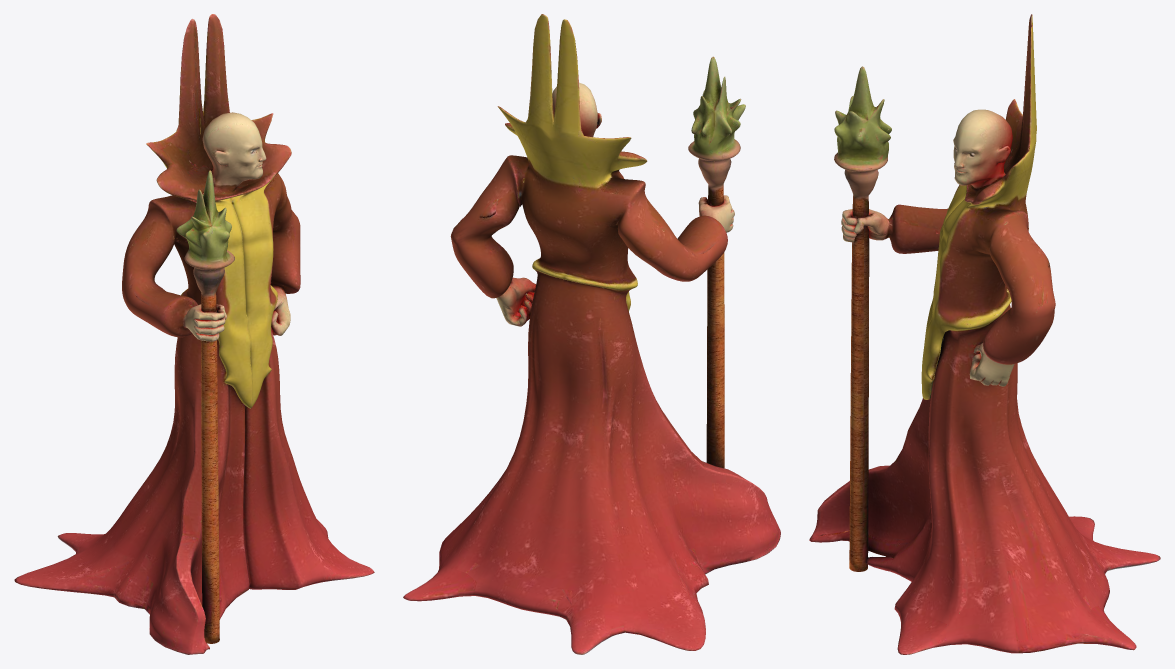
The model's file is MZ4250 - Azbarajos.glb.
The picture shows the model from 3 angles, left to right: view 1: azimuth 30°, elevation 25°; view 2: azimuth 150°, elevation 25°; view 3: azimuth 270°, elevation 25°; orthographic projection. The views are drawn at different scales.
Parts seen in each view (by area): view 1: MZ4250 - Azbarajos; view 2: MZ4250 - Azbarajos; view 3: MZ4250 - Azbarajos.
Part boxes in pixels (x1,y1,x2,y2): MZ4250 - Azbarajos: (14,14,374,654); MZ4250 - Azbarajos: (403,14,780,654); MZ4250 - Azbarajos: (809,14,1160,654).
Size of the model in its own units: 0.7096 by 1.34 by 0.7295.
Materials: 1 (1 with a texture image).
